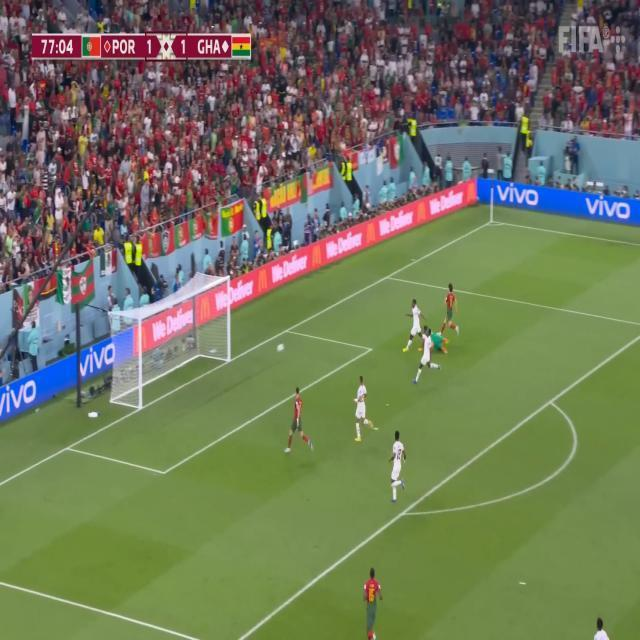football: (276, 340, 286, 355)
